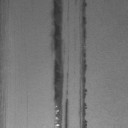slag inclusion: (48, 0, 69, 128), (78, 0, 89, 128)
